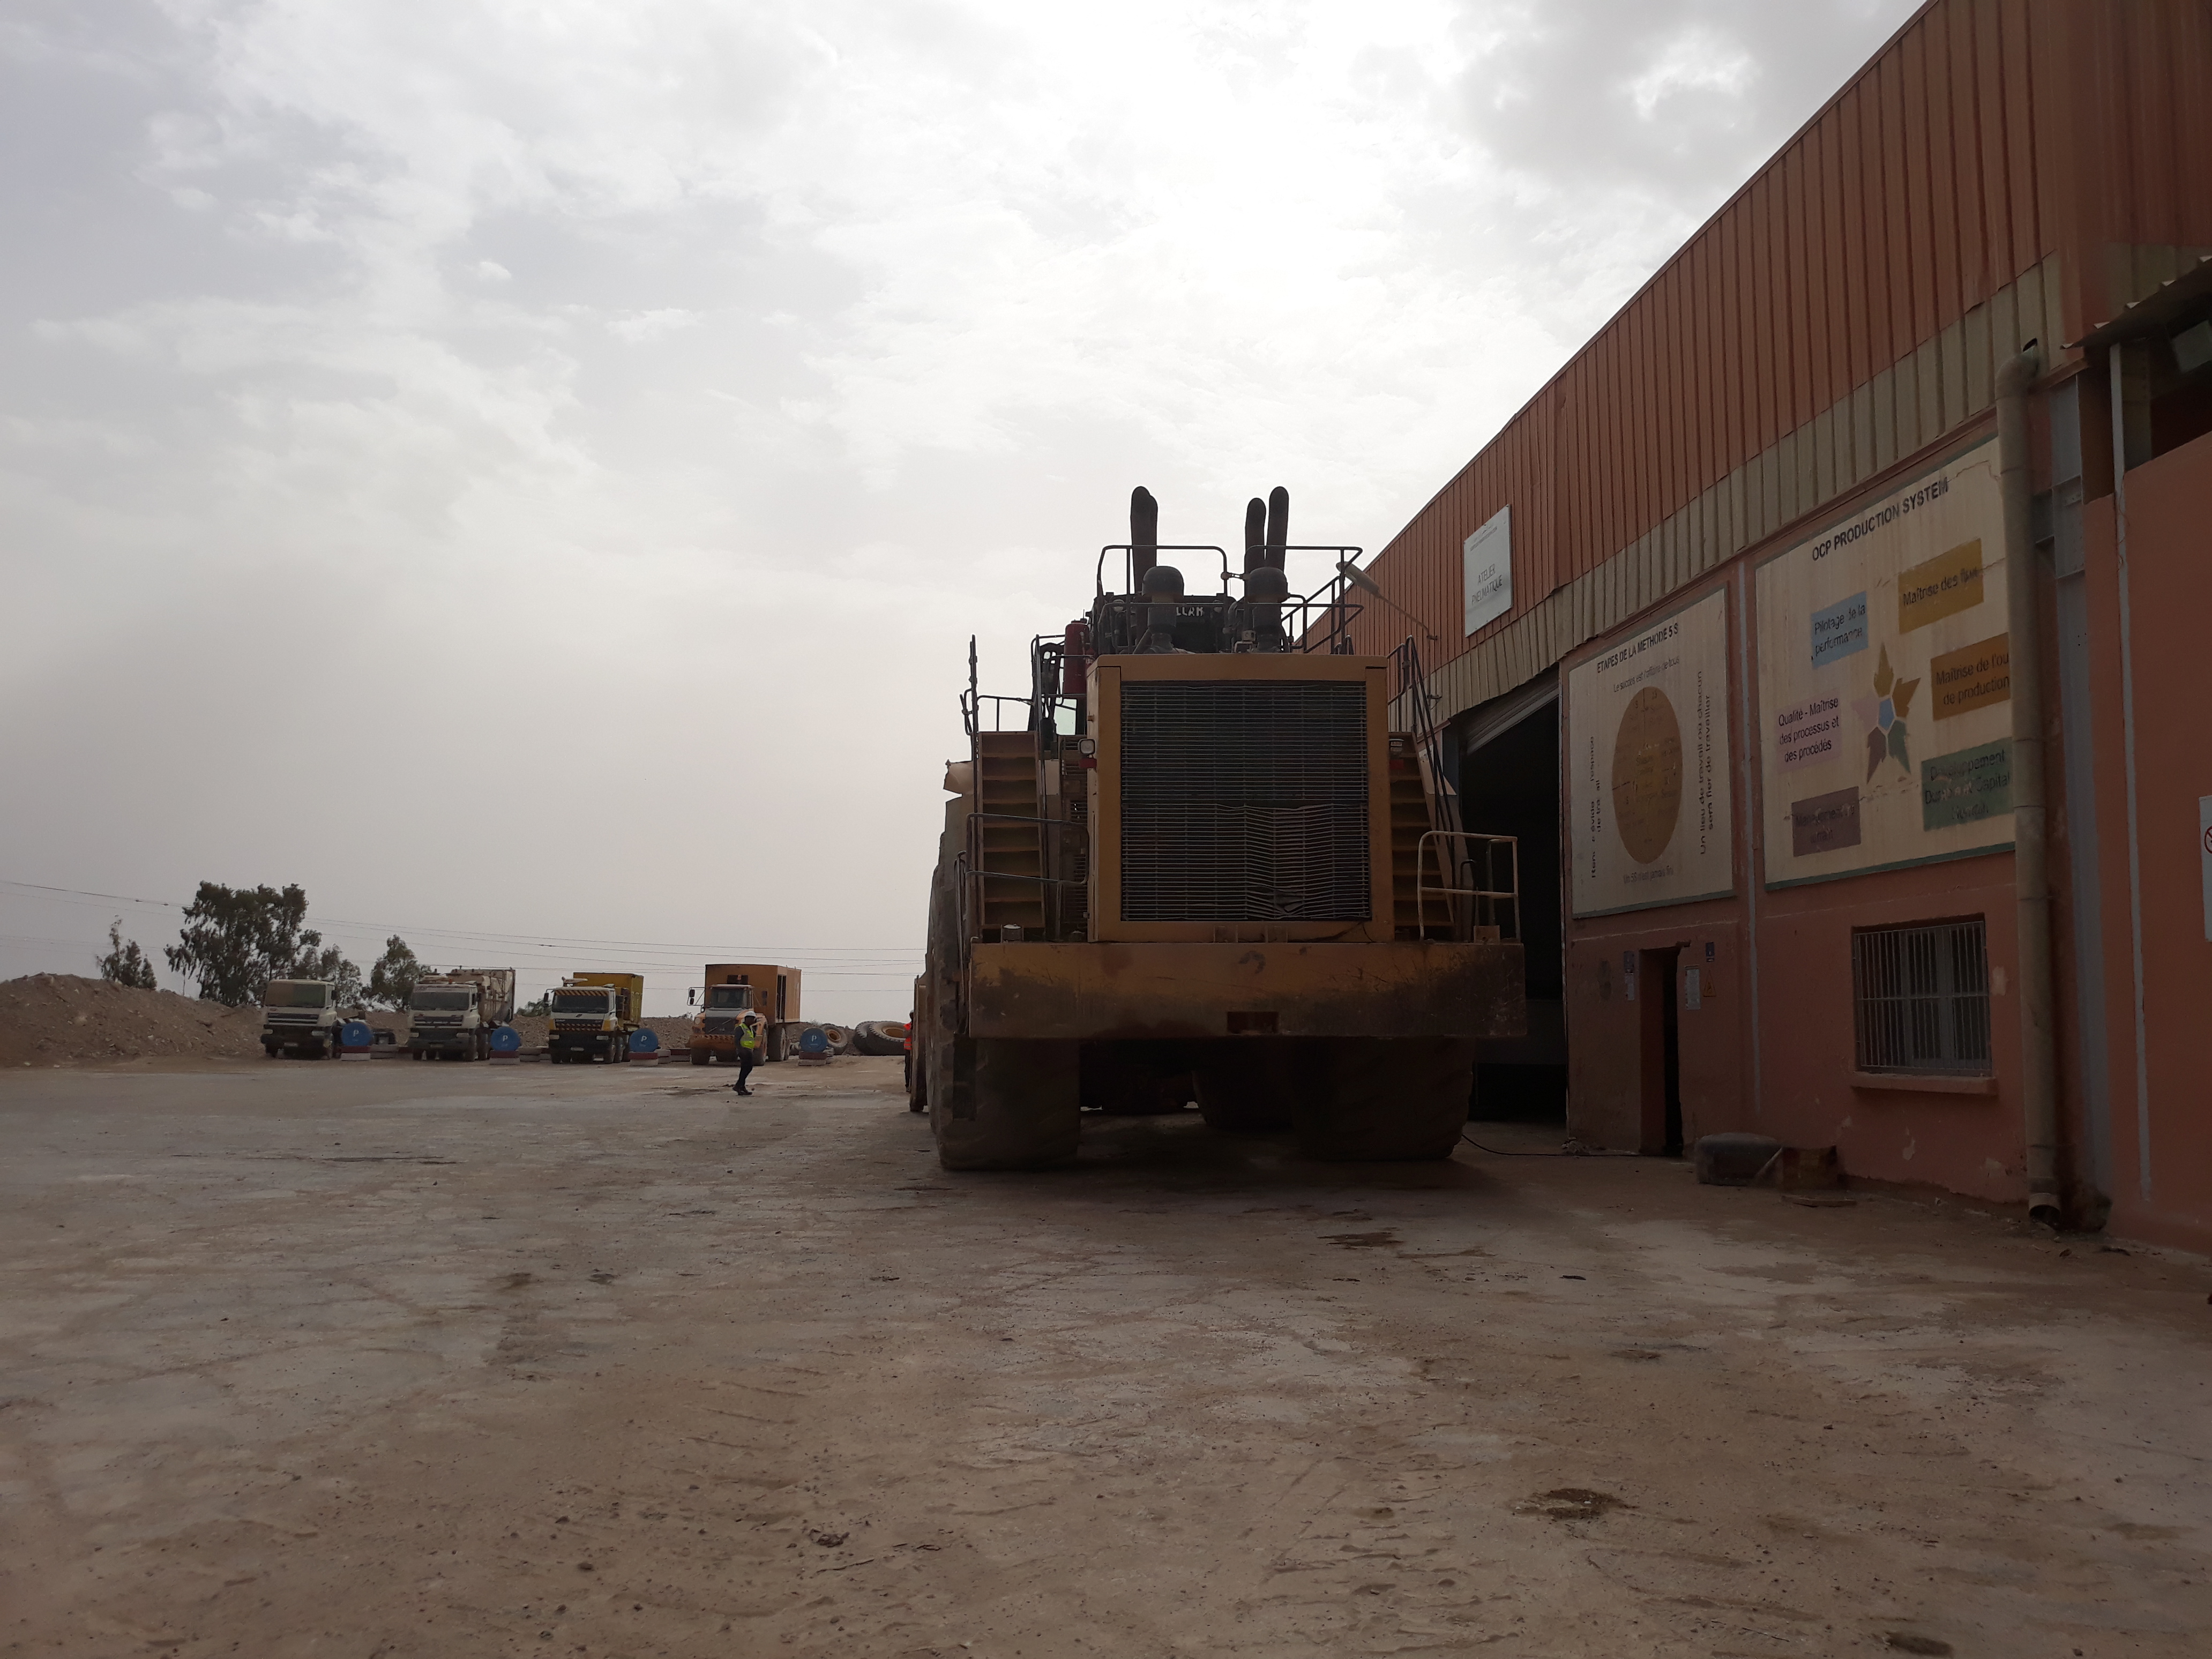chargeuse: (876, 472, 1569, 1205)
person: (717, 1003, 778, 1110)
